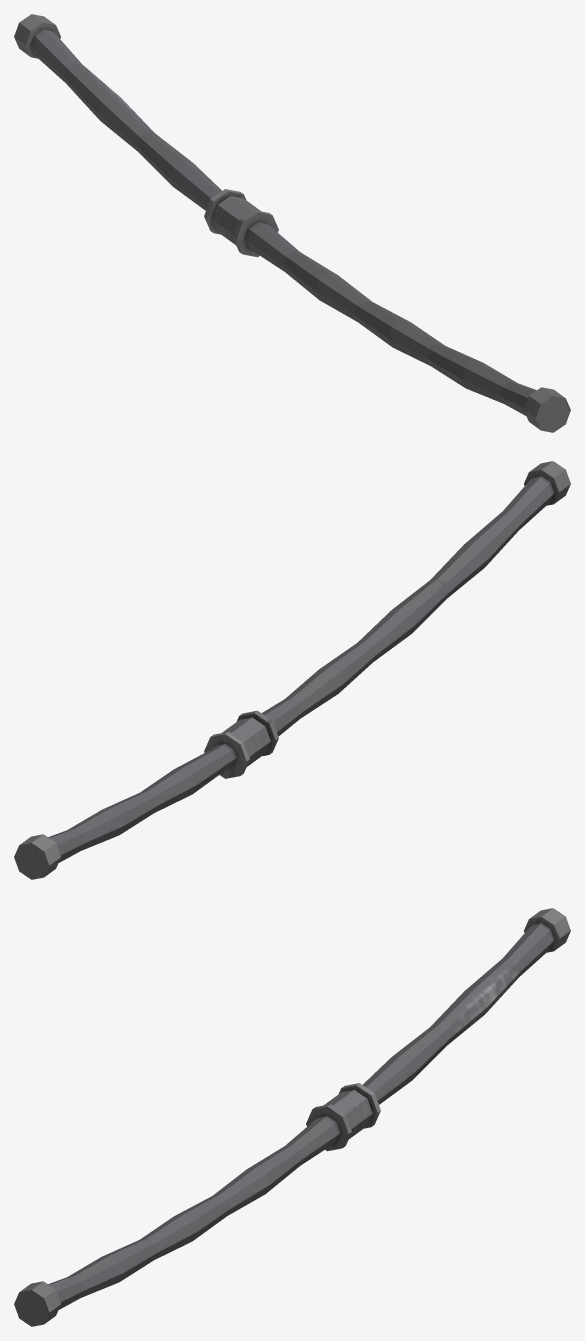
File: nodexeus-set-run-hose.glb
3 renders of one model, top to bottom at view 1: azimuth 30°, elevation 25°; view 2: azimuth 150°, elevation 25°; view 3: azimuth 330°, elevation 25°, orthographic.
Parts seen in each view (by area): view 1: set-run-hose; view 2: set-run-hose; view 3: set-run-hose.
Part boxes in pixels (box(x1,y1,x2,y2)): set-run-hose: box(14, 14, 570, 432); set-run-hose: box(14, 461, 570, 879); set-run-hose: box(14, 908, 570, 1326).
Size of the model in its own units: 0.29 by 0.505 by 6.14.
1 material, 1 textured.
